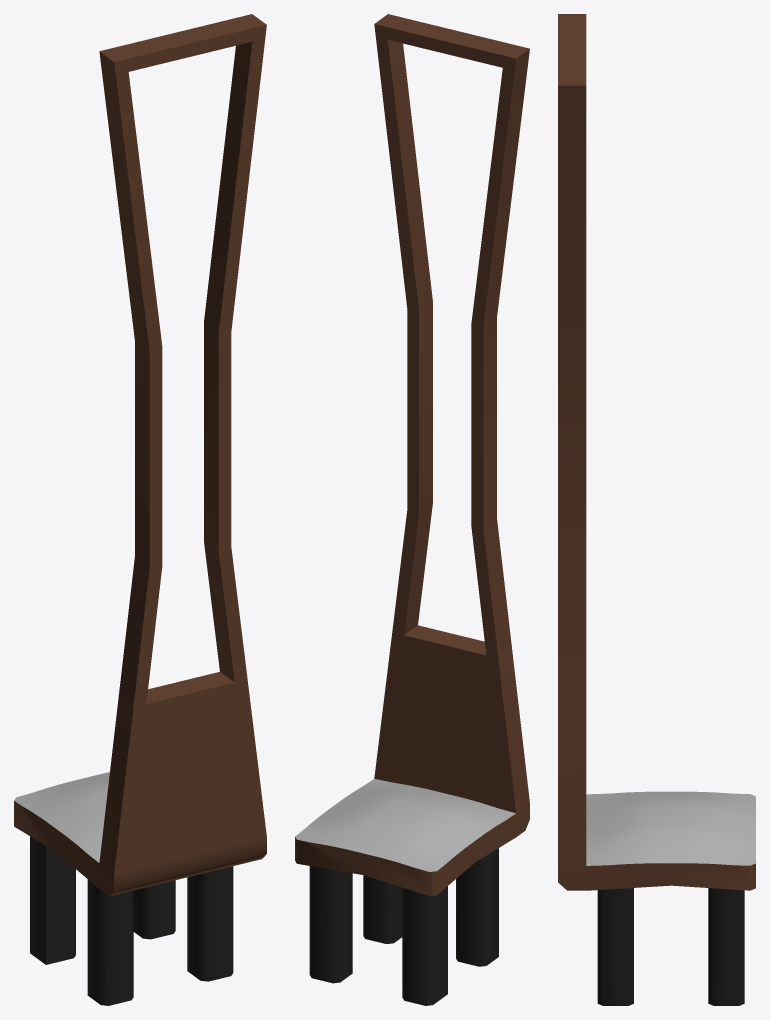
Rendered from chair.fbx.
3 views of the same model, side by side, from view 1: azimuth 30°, elevation 25°; view 2: azimuth 150°, elevation 25°; view 3: azimuth 270°, elevation 25° (orthographic). The views are drawn at different scales.
Parts seen in each view (by area): view 1: Cube.003; view 2: Cube.003; view 3: Cube.003.
Part boxes in pixels (left/top/right/bottom): Cube.003: left=14, top=14, right=266, bottom=1005; Cube.003: left=295, top=14, right=529, bottom=1005; Cube.003: left=558, top=14, right=755, bottom=1005.
Bounding box in the file's own units: 82.4 × 496 × 96.18.
